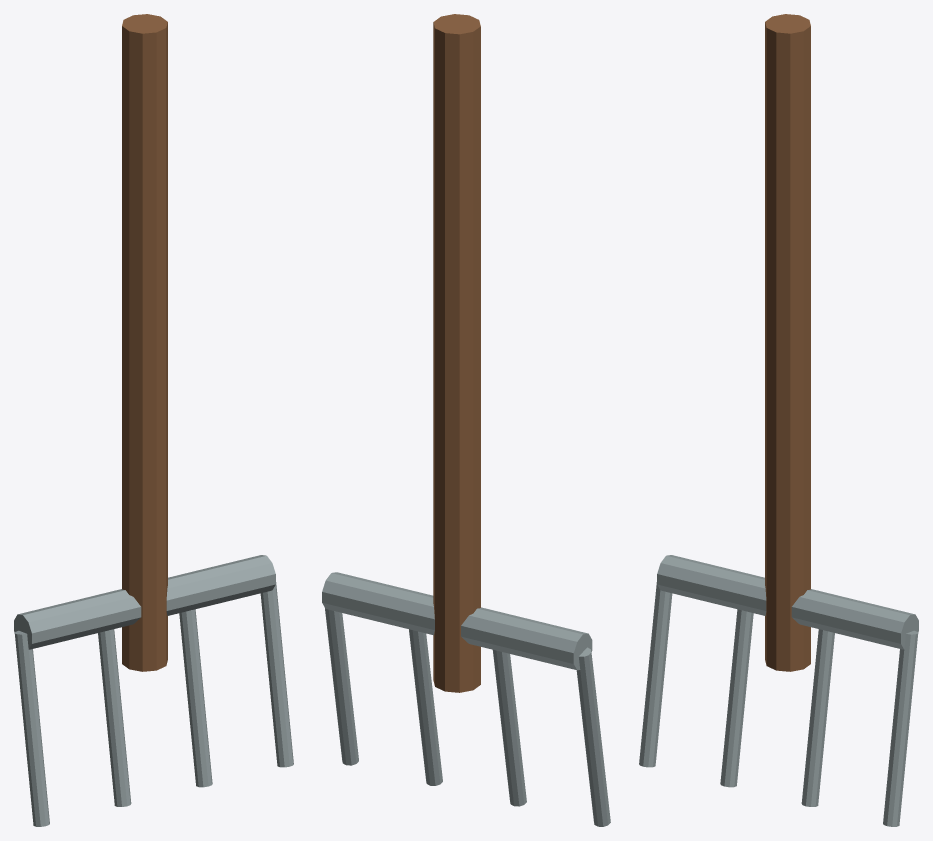
Rendered from Garden_Fork_A.glb.
The picture shows the model from 3 angles, left to right: view 1: azimuth 30°, elevation 25°; view 2: azimuth 150°, elevation 25°; view 3: azimuth 330°, elevation 25°; orthographic projection. The views are drawn at different scales.
Visible parts, largest first — view 1: Garden_Fork_A; view 2: Garden_Fork_A; view 3: Garden_Fork_A.
Part boxes in pixels (x1,y1,x2,y2): Garden_Fork_A: (14, 14, 293, 826); Garden_Fork_A: (322, 14, 610, 826); Garden_Fork_A: (639, 14, 918, 826).
Bounding box in the file's own units: 0.3171 × 0.8917 × 0.0738.
